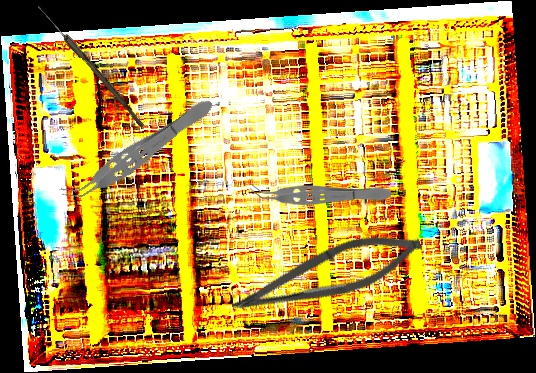Micro Scissor: (225, 215, 429, 338)
Surgical Spoon: (34, 3, 148, 129)
Tissue Forceps: (57, 90, 220, 213), (250, 182, 391, 205)
